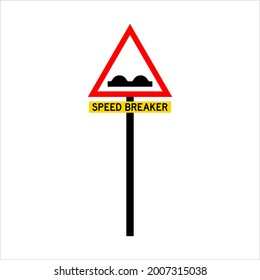speed-breaker: (92, 36, 168, 97)
